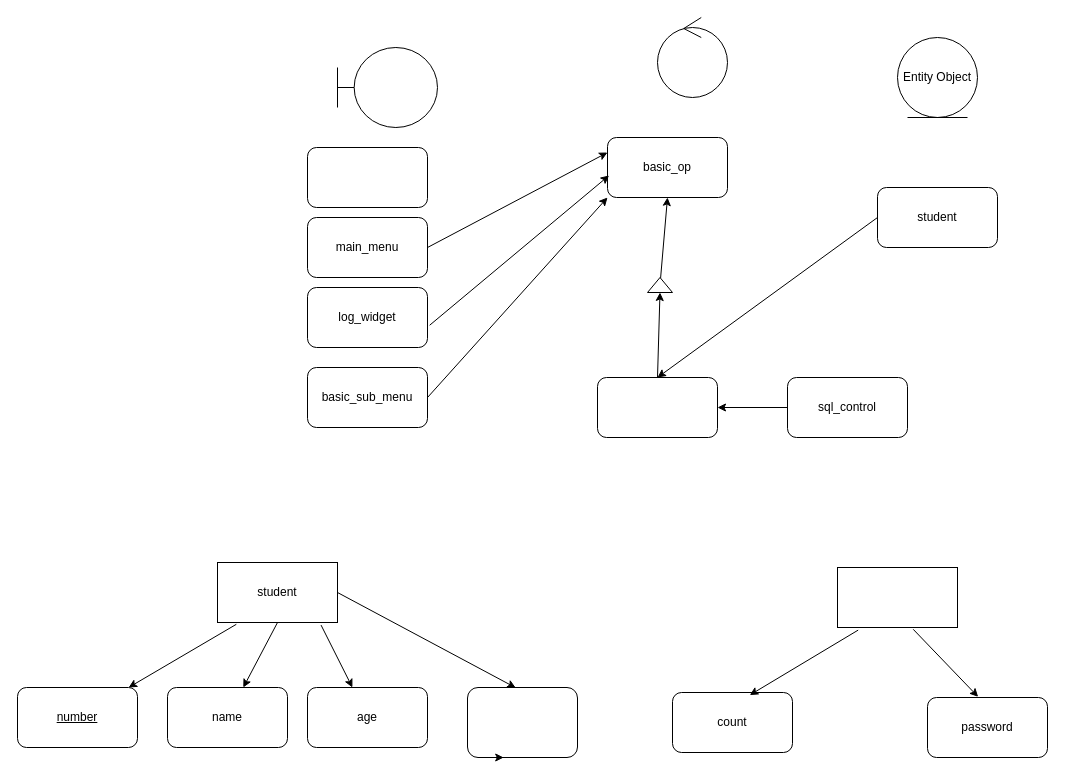
Image size: 1065x784. Some labels were removed from this diagram. Here are the shapes that lost their labels. From the top down, the centre of each, then its label:
(692,57): Control Object
(387,87): Boundary Object
(367,177): assist_menu
(657,407): current_op
(897,597): user
(522,722): gender
